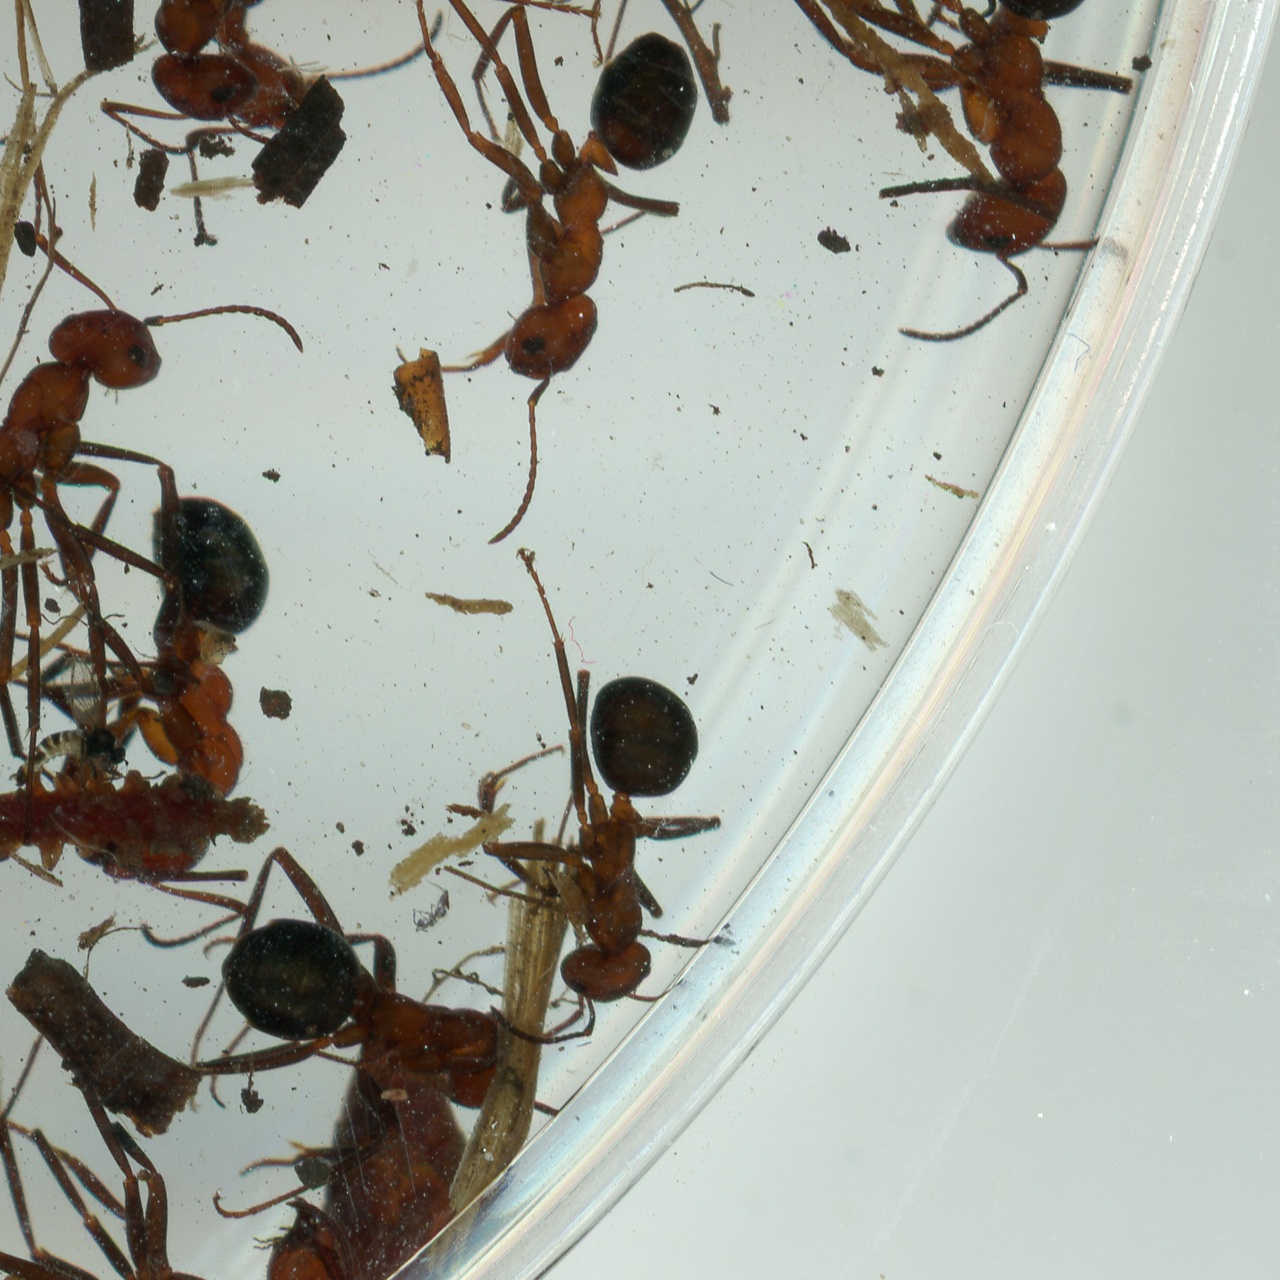arthropod: (399, 0, 704, 559), (0, 204, 324, 703), (170, 822, 606, 1177), (438, 553, 737, 1051), (27, 496, 277, 948), (881, 0, 1144, 349), (0, 1029, 359, 1280), (73, 0, 392, 177), (9, 648, 132, 794), (409, 874, 455, 939)
